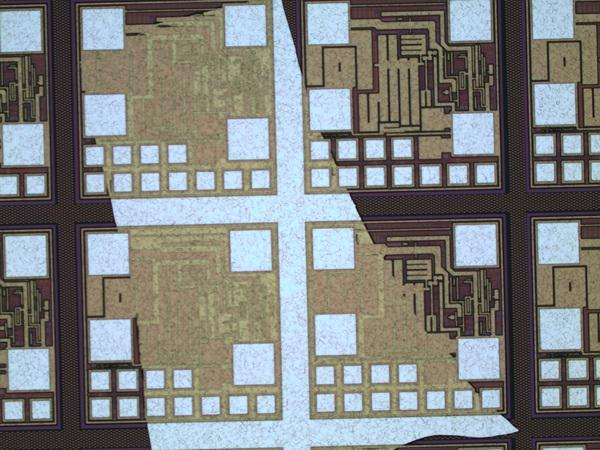BLOCK ETCH: (79, 1, 524, 450)
